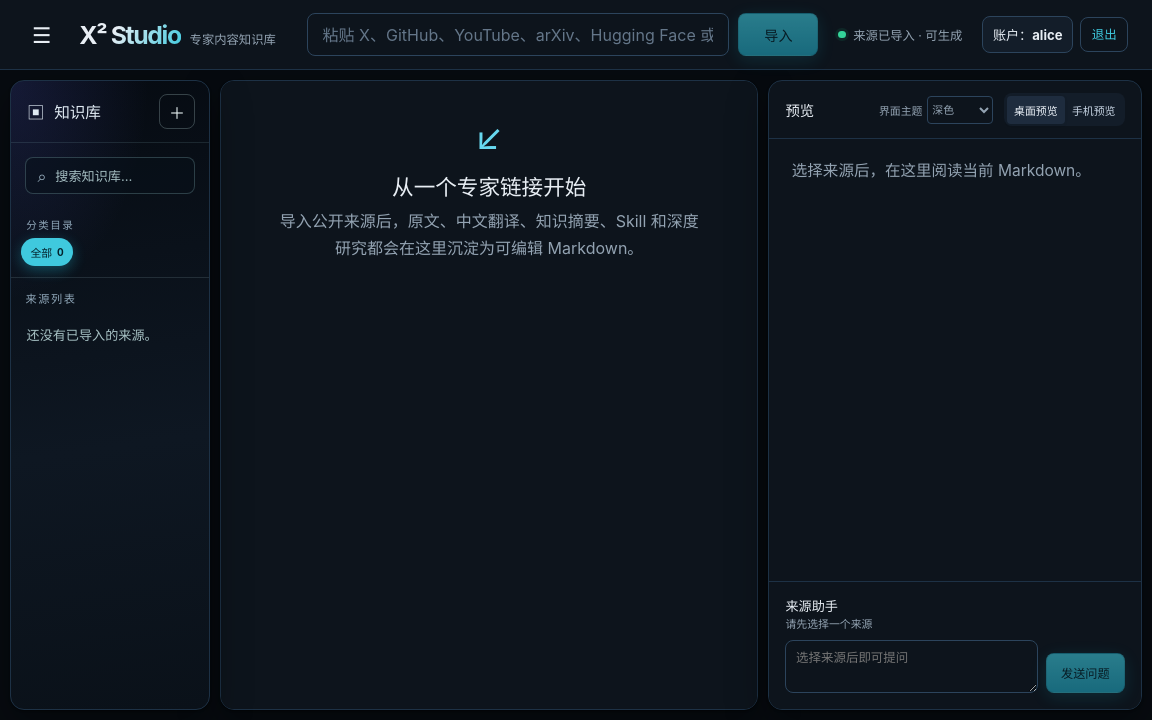
Scenario: App › keeps a local choice over a late read and gives an actionable message after bounded failures
Expected: the button named "打开知识库" is shown, 24,17 -> 59,52
Select "浅色" in the dropdown labelled "界面主题" at (960, 110), box 927,96 -> 993,124
Wait 11000 ms
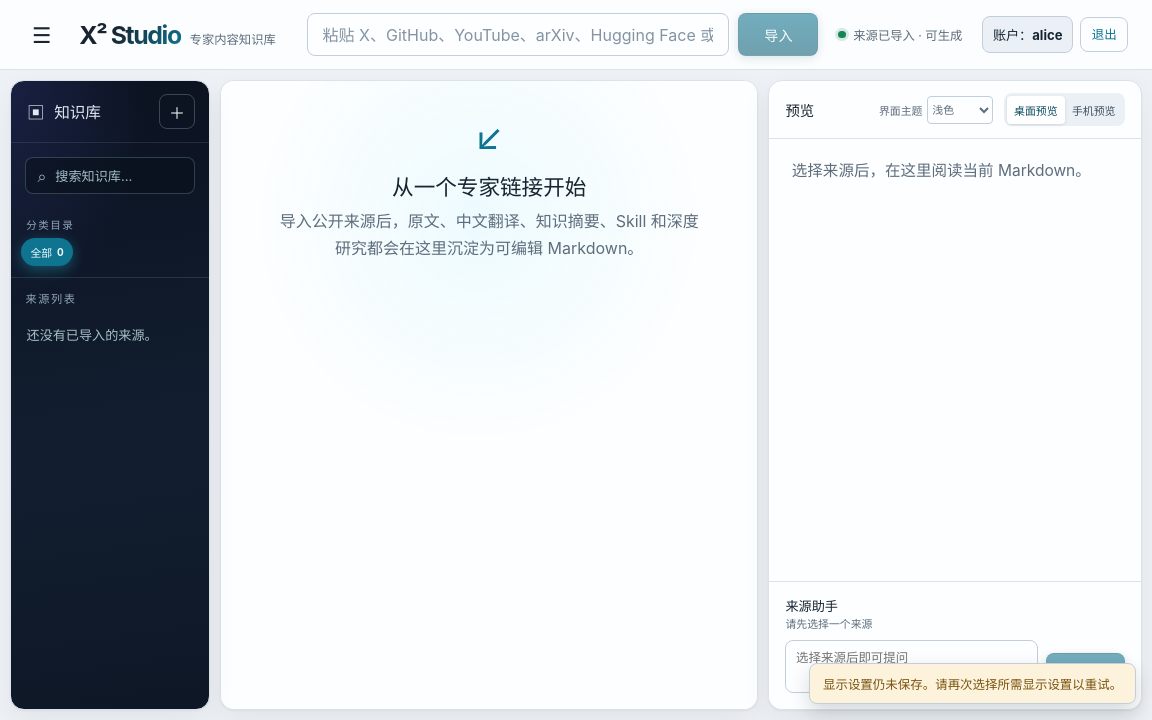
Now the message reads "显示设置仍未保存。请再次选择所需显示设置以重试。", box 823,677 -> 1122,692
